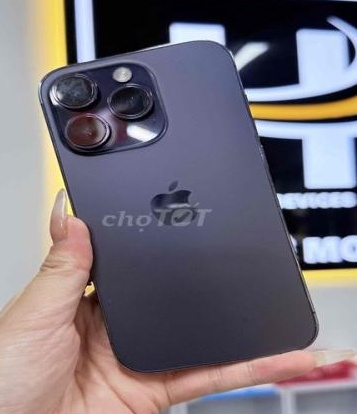scratch: (47, 68, 103, 107)
